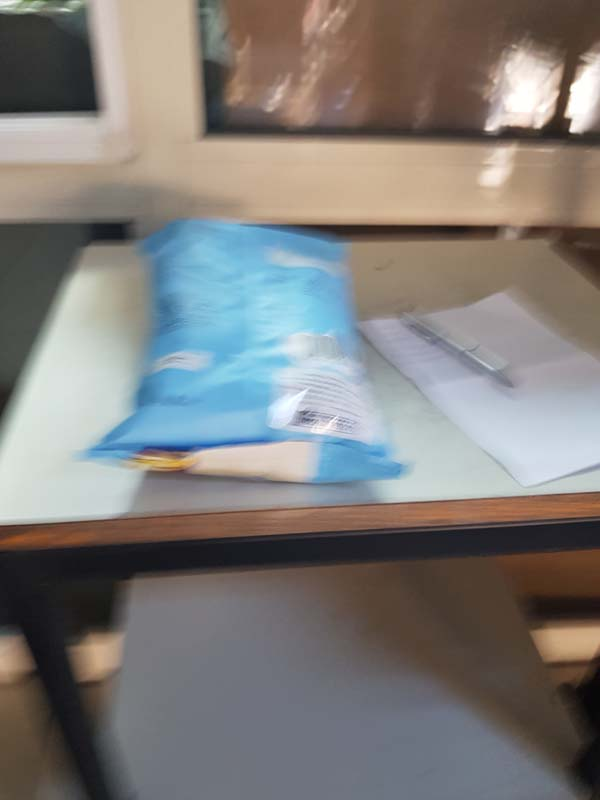popcorn: (118, 218, 414, 491)
